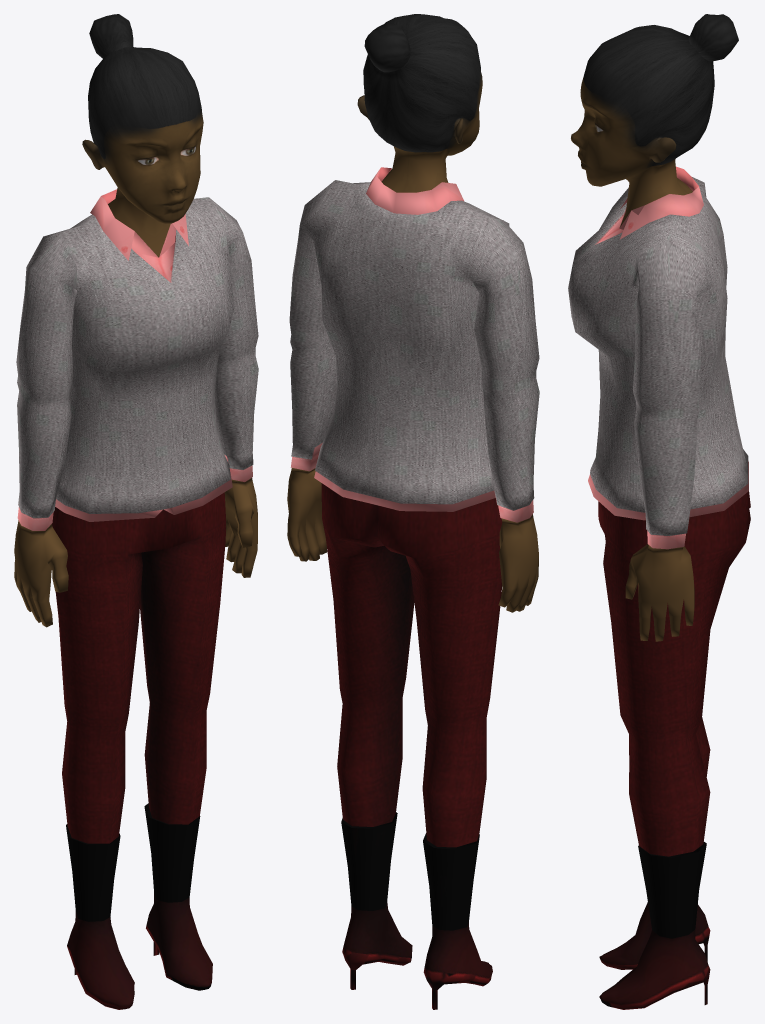
The model's file is fperson08.glb.
3 renders of one model, left to right at view 1: azimuth 30°, elevation 25°; view 2: azimuth 150°, elevation 25°; view 3: azimuth 270°, elevation 25°, orthographic. The views are drawn at different scales.
Parts seen in each view (by area): view 1: F_lBody_BaseMesh.001mesh.004; view 2: F_lBody_BaseMesh.001mesh.004; view 3: F_lBody_BaseMesh.001mesh.004.
Part boxes in pixels (left/top/right/bottom): F_lBody_BaseMesh.001mesh.004: left=14, top=14, right=258, bottom=1009; F_lBody_BaseMesh.001mesh.004: left=287, top=14, right=539, bottom=1009; F_lBody_BaseMesh.001mesh.004: left=568, top=14, right=750, bottom=1009.
Bounding box in the file's own units: 0.4791 × 1.86 × 0.3184.
2 materials, 2 textured.
